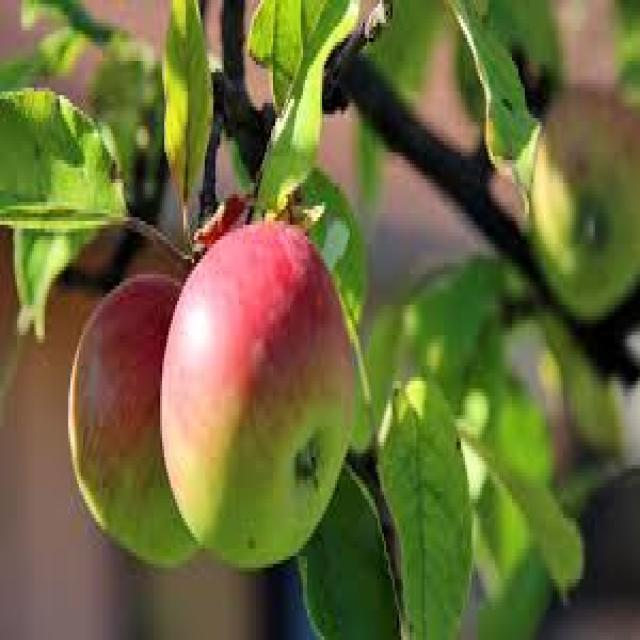Apple: (162, 219, 354, 566), (67, 274, 197, 566), (532, 82, 640, 325)
